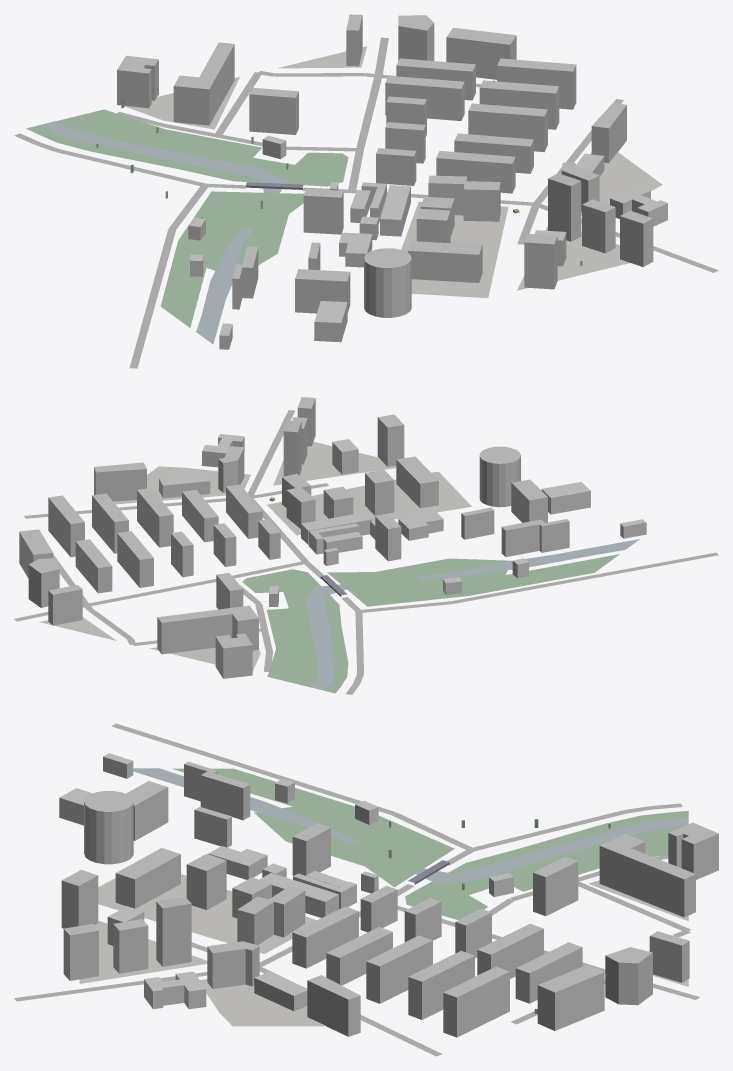
3 renders of one model, top to bottom at view 1: azimuth 30°, elevation 25°; view 2: azimuth 150°, elevation 25°; view 3: azimuth 270°, elevation 25°, orthographic. The views are drawn at different scales.
Size of the model in its own units: 645 by 54.65 by 579.
